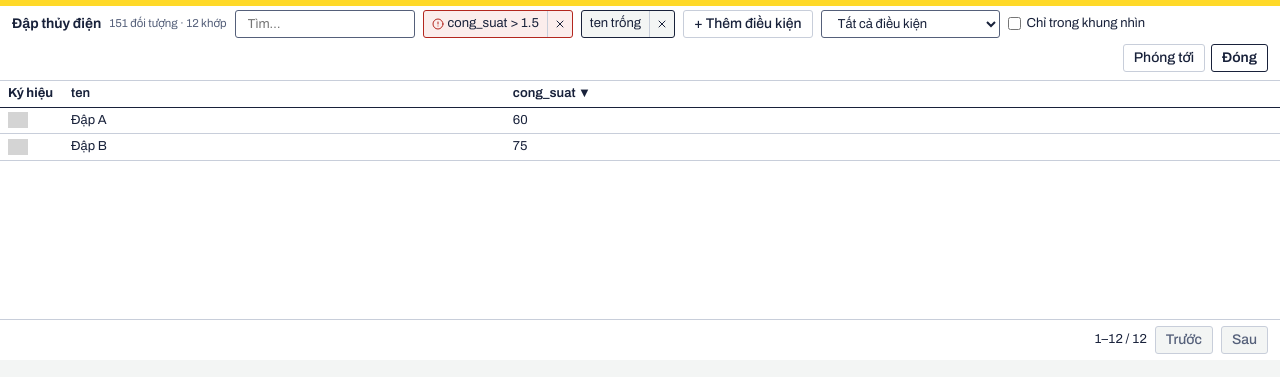
Test: LayerTableView › an unreadable number condition shows the message under the editor
Click the button "cong_suat > 1.5" at (485, 24), box [424,11,547,37]
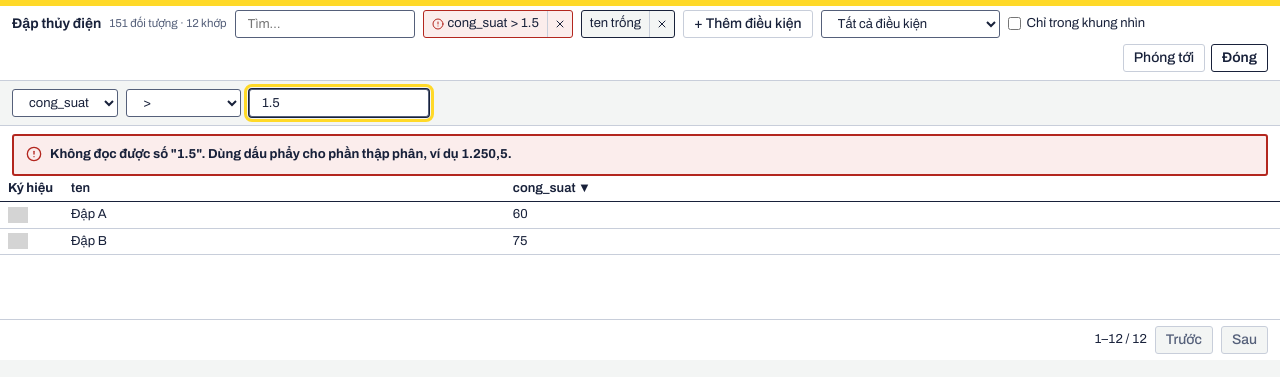
Now the message reads "Không đọc được số \"1.5\". Dùng dấu phẩy cho phần thập phân, ví dụ 1.250,5.", box [50,147,512,161]
